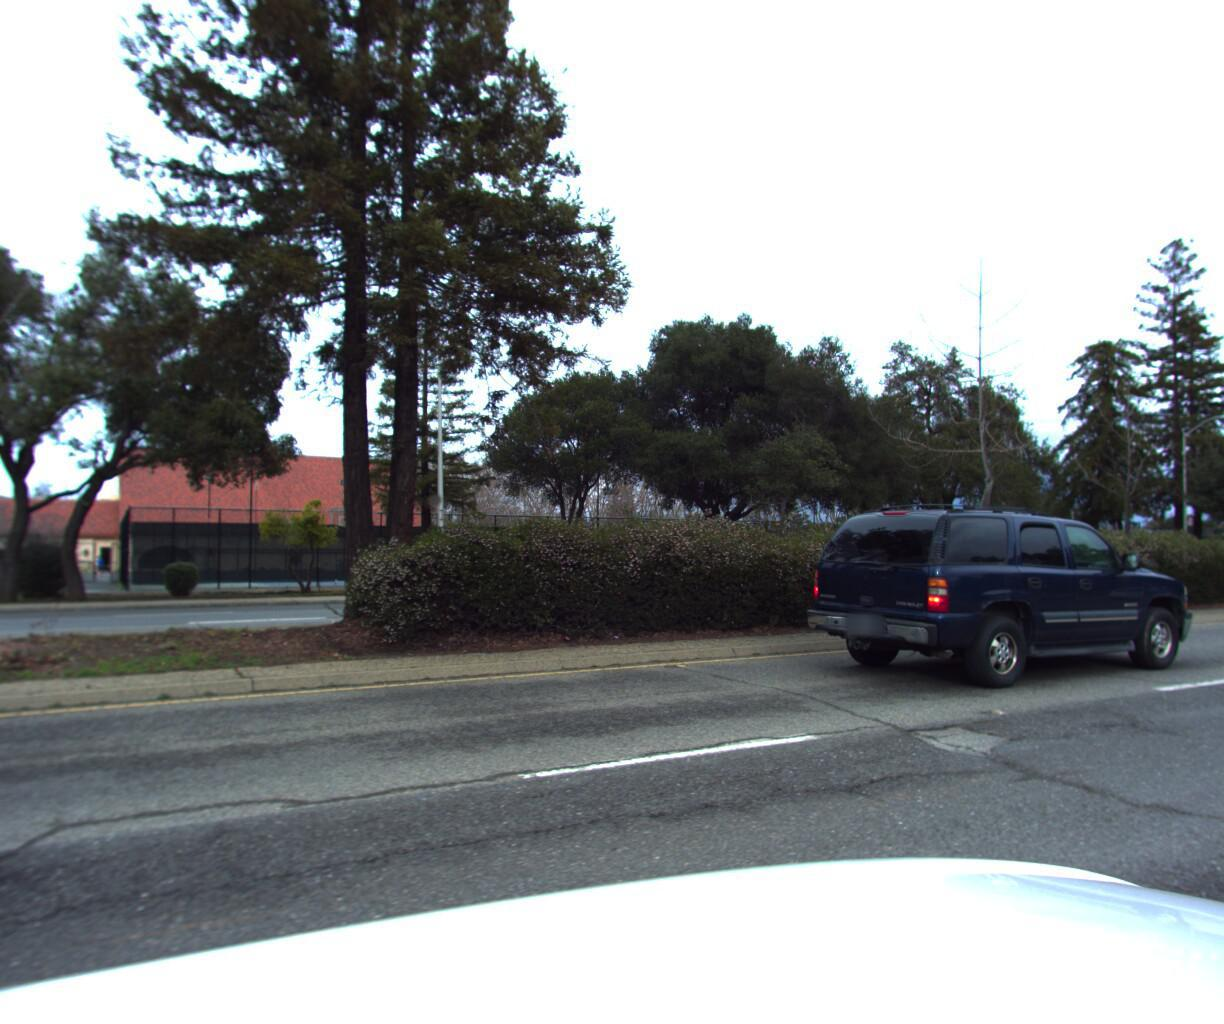car: (794, 485, 1213, 702)
